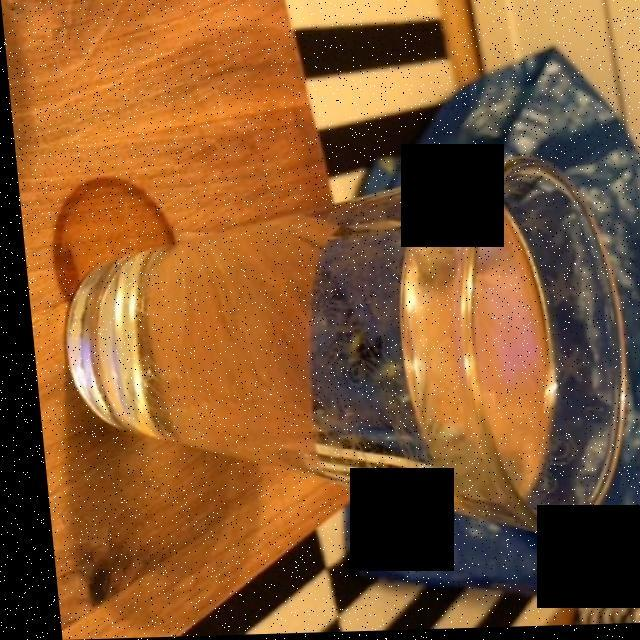water: (118, 180, 550, 517)
